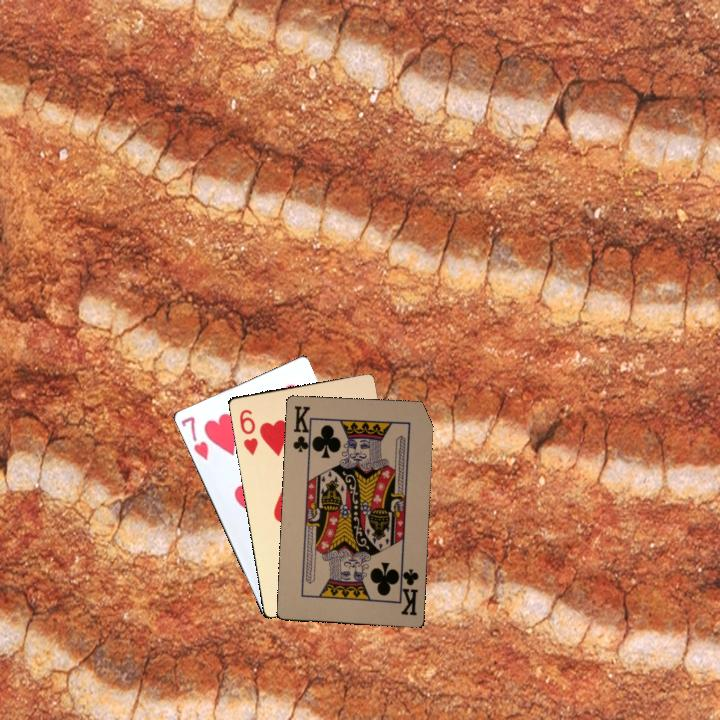6h: (235, 405, 260, 456)
7h: (177, 412, 211, 463)
Kc: (394, 563, 421, 618), (289, 402, 314, 458)
